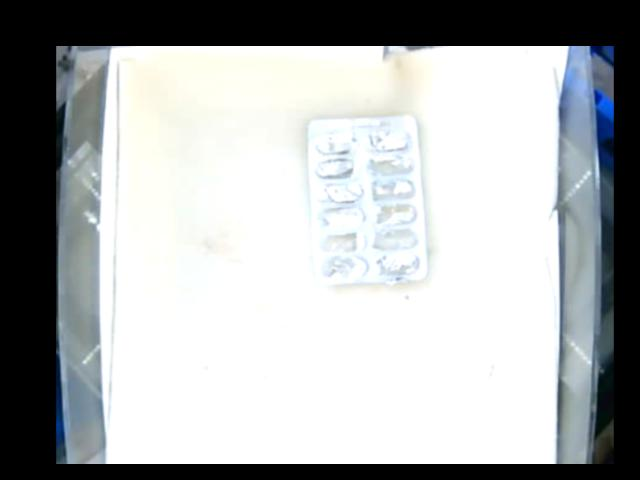Medicine: (308, 112, 423, 285)
